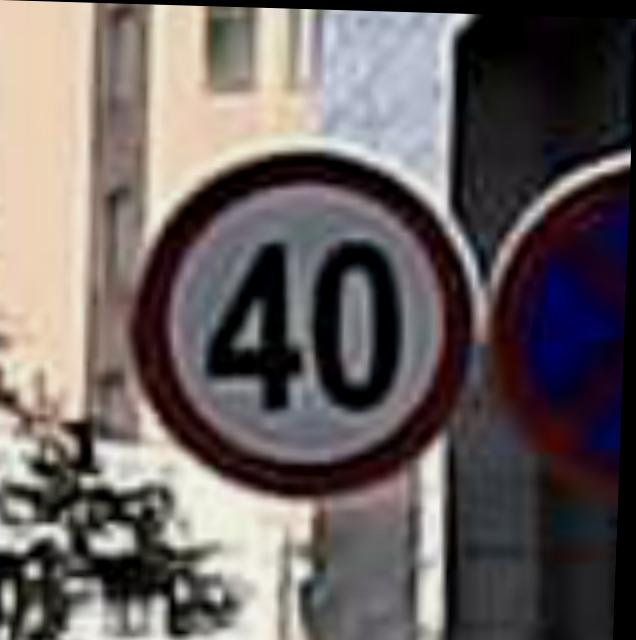limit40: (119, 126, 487, 508)
